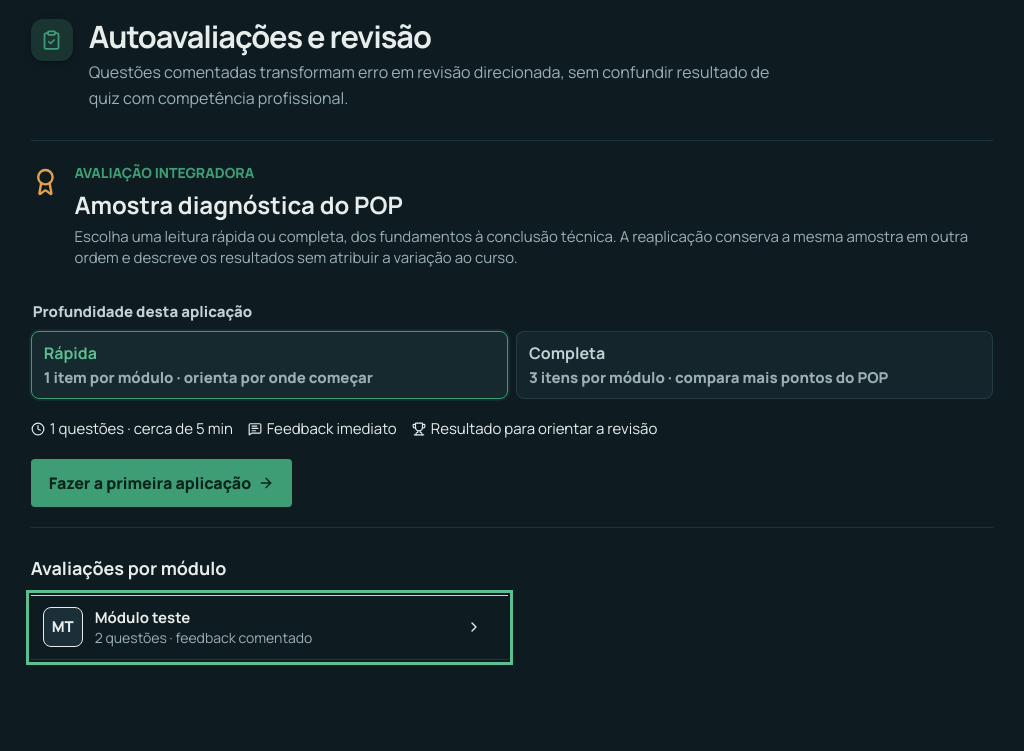
it: interação acessível das autoavaliações › leva o foco ao enunciado ao iniciar e ao avançar pelo teclado
The width and height of the screenshot is (1024, 751).
Click the button "MT Módulo teste 2 questões · feedback comentado". click: (269, 627)
box: [31,595,508,660]
(page scrolled)
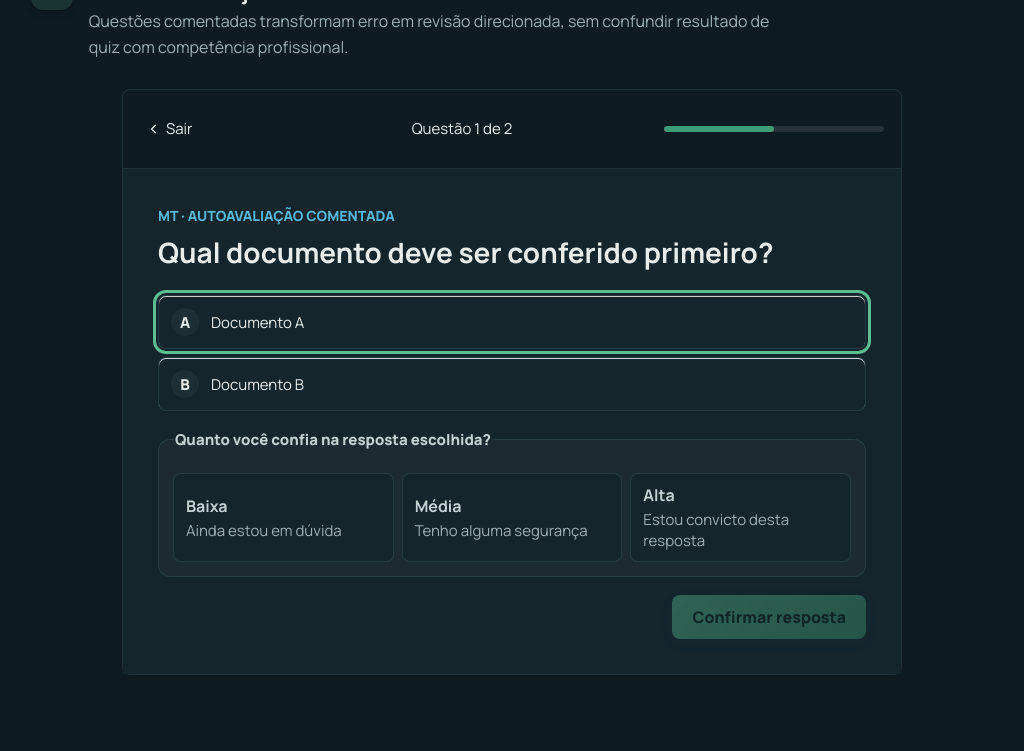
Click the button "A Documento A". click: (258, 322)
box: [158,295,866,349]
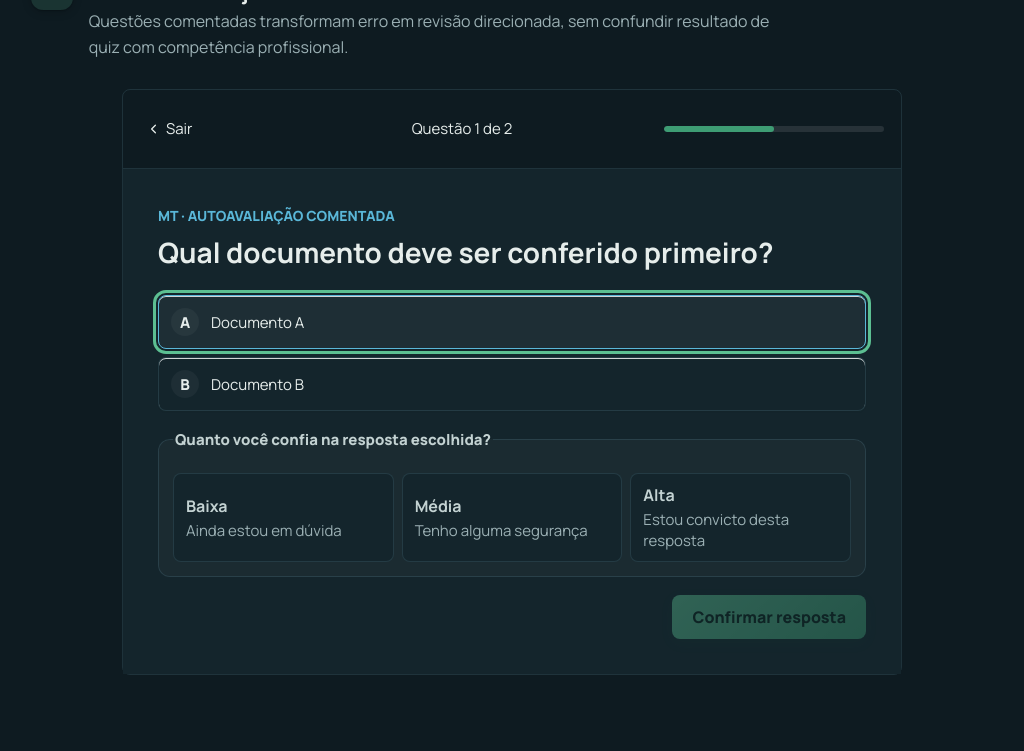
Expected: the button "Confirmar resposta" is disabled, [672,595,866,639]
Click the button "Alta Estou convicto desta resposta". click: (741, 518)
box: [630,473,851,562]
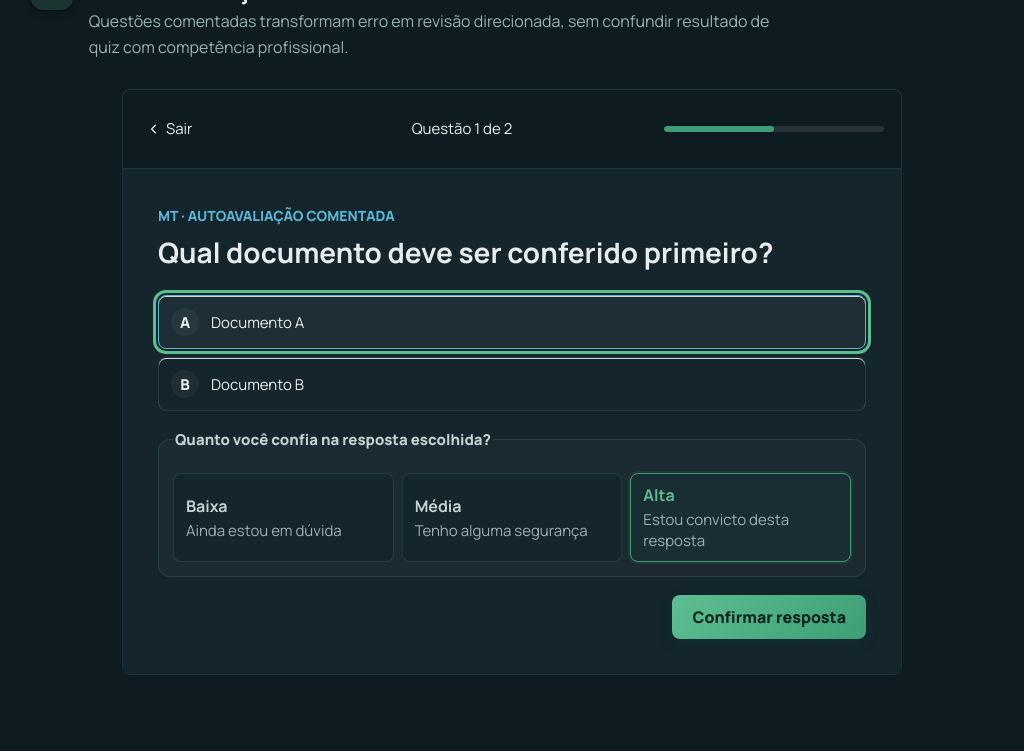
Expected: the button "Alta Estou convicto desta resposta" is pressed, [630,473,851,562]
Click the button "Confirmar resposta". click: (769, 617)
box: [672,595,866,639]
(page scrolled)
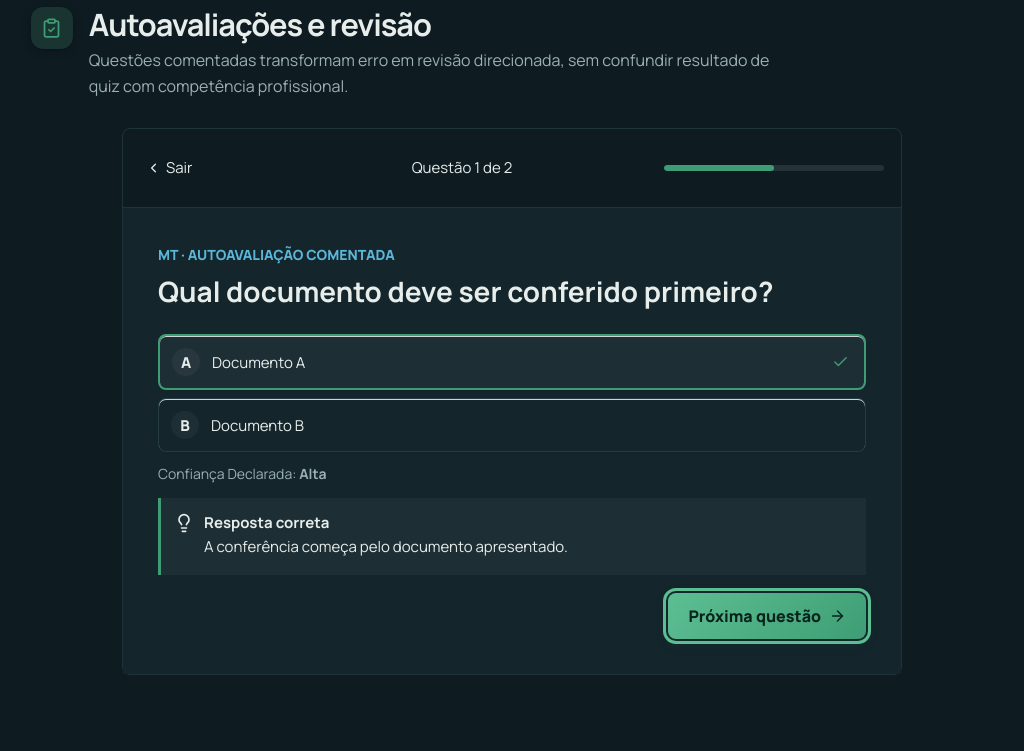
Click the button "Próxima questão". click: (767, 616)
box: [668,593,866,639]
(page scrolled)
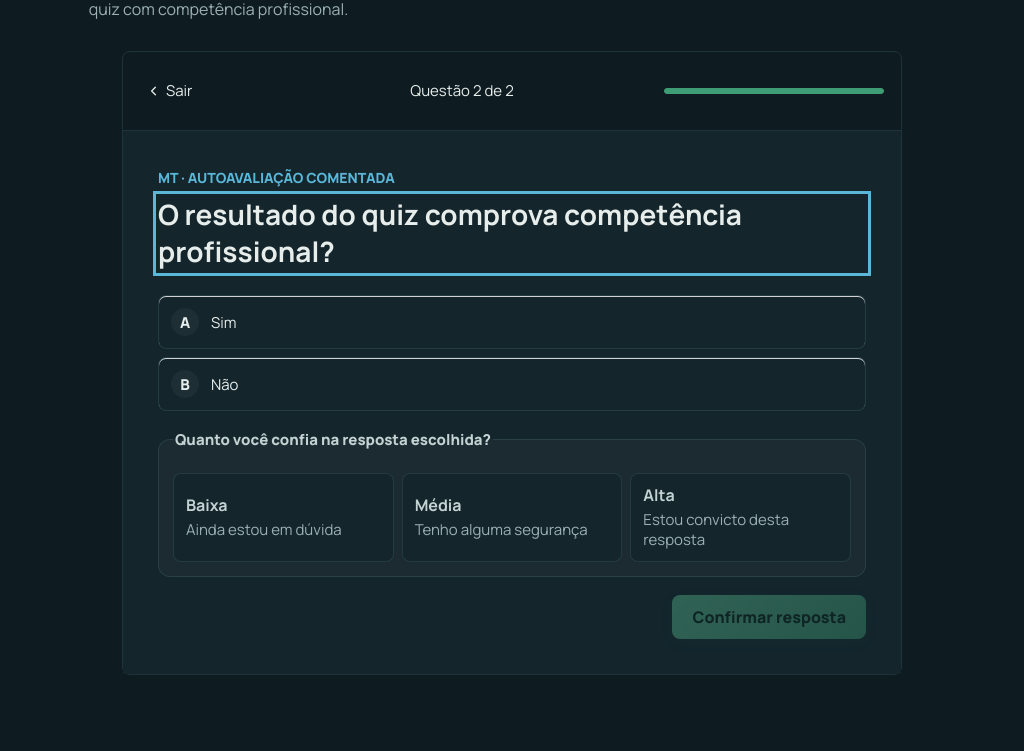
Expected: the heading "Qual documento deve ser conferido primeiro?" no longer shows "Qual documento deve ser conferido primeiro?"
